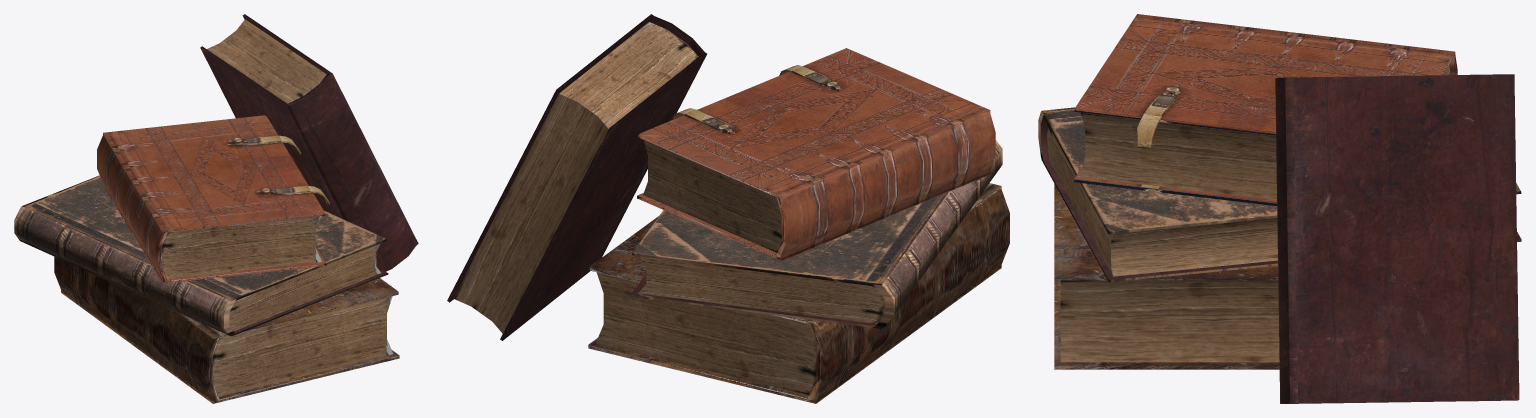
Rendered from books.glb.
3 renders of one model, left to right at view 1: azimuth 30°, elevation 25°; view 2: azimuth 150°, elevation 25°; view 3: azimuth 270°, elevation 25°, orthographic. The views are drawn at different scales.
Parts seen in each view (by area): view 1: Books; view 2: Books; view 3: Books.
Part boxes in pixels (box(x1,y1,x2,y2)): Books: box(14, 14, 418, 403); Books: box(447, 14, 1009, 403); Books: box(1038, 14, 1521, 403).
Size of the model in its own units: 0.5032 by 0.3052 by 0.4403.
1 material, 1 textured.
